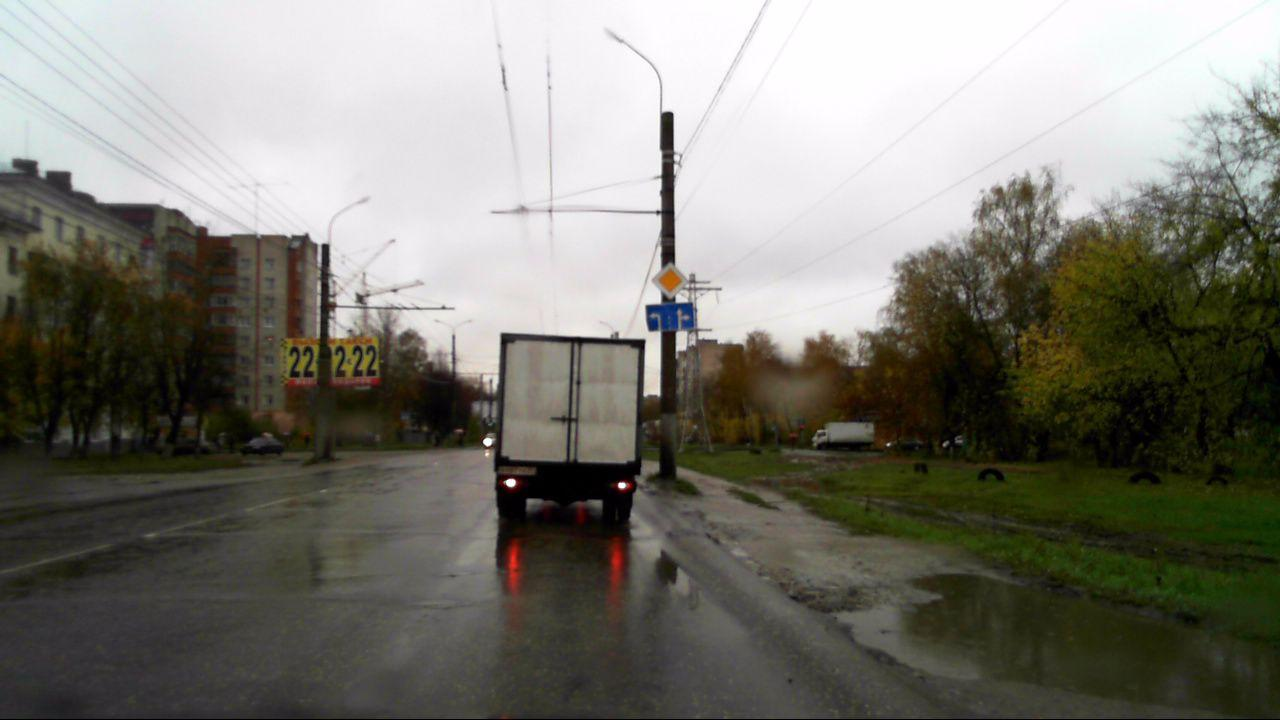2_1: (651, 261, 688, 297)
5_15_1: (643, 304, 696, 331)
